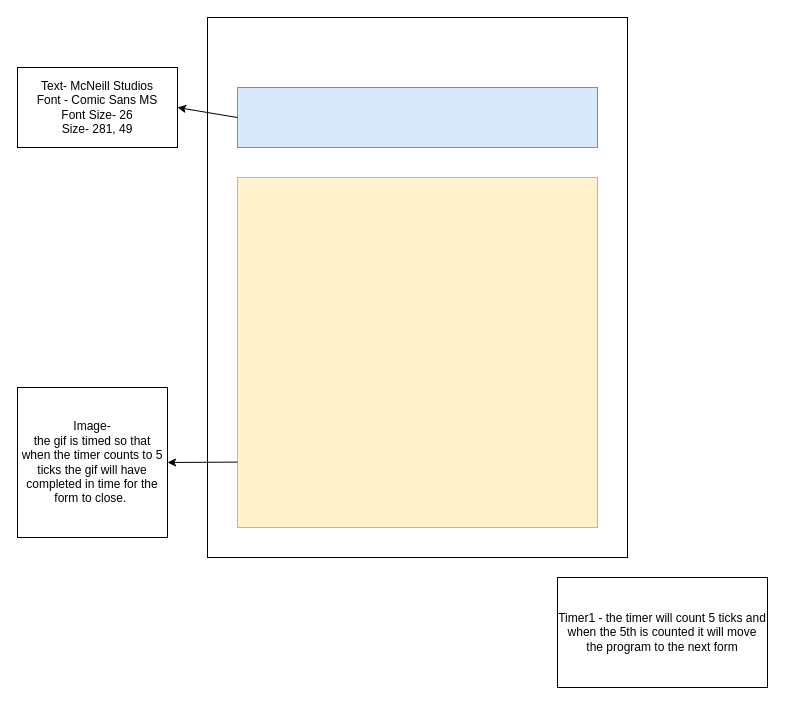
Some shapes in this 785 by 705 pixel diagram are drawn without their labels. Each missing label, with the box of its shape:
lblTitle: (236, 86, 598, 148)
pbxLoadingGif: (236, 176, 598, 528)
